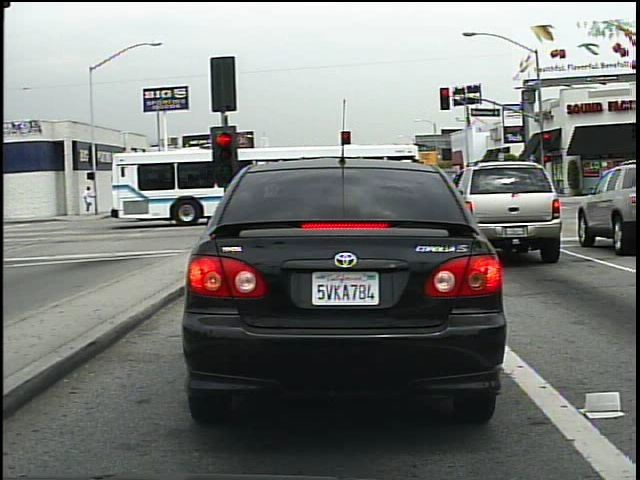person: (82, 183, 96, 215)
